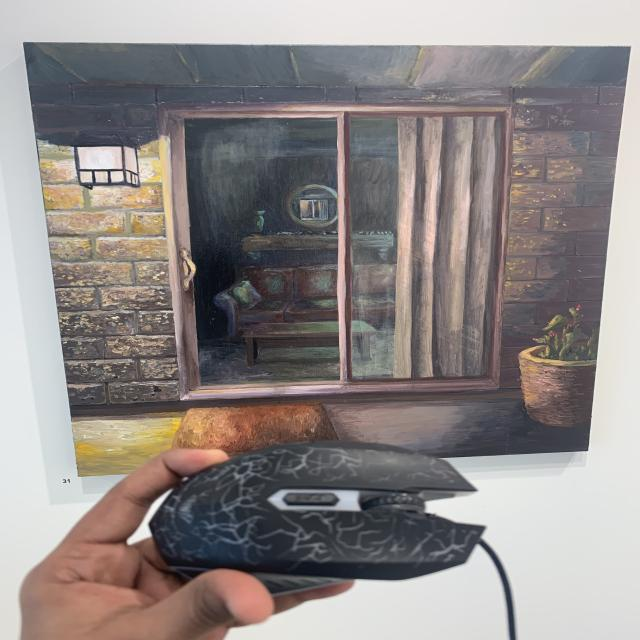Mouse: (118, 432, 516, 594)
